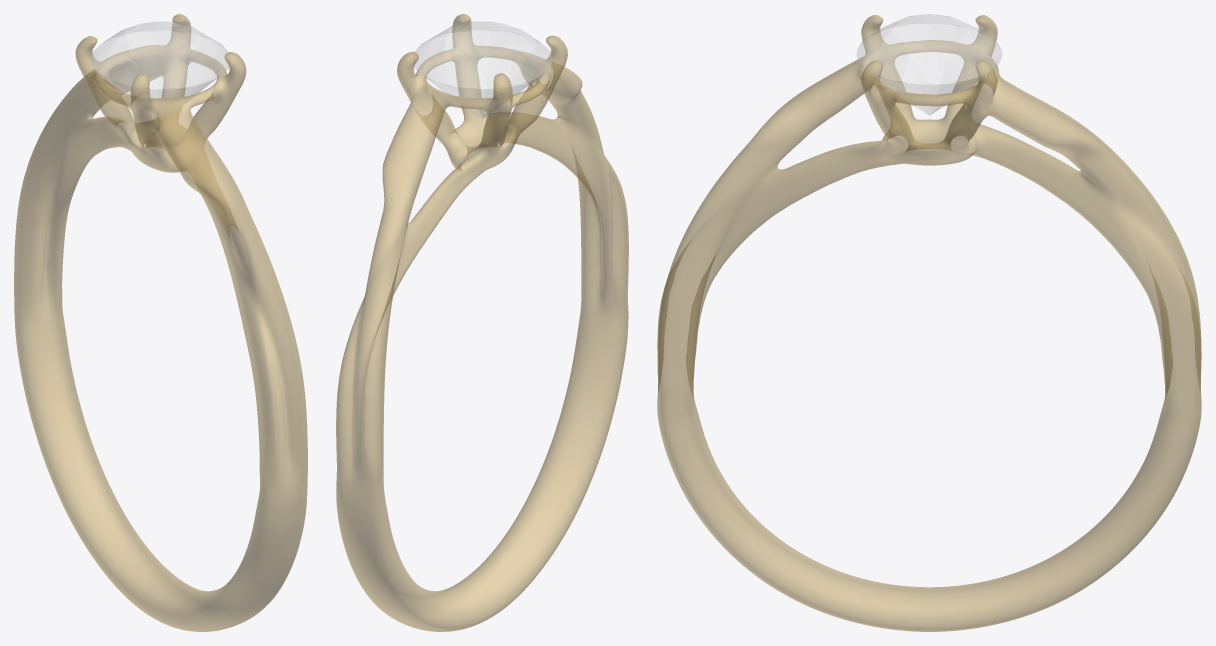
3 views of the same model, side by side, from view 1: azimuth 30°, elevation 25°; view 2: azimuth 150°, elevation 25°; view 3: azimuth 270°, elevation 25° (orthographic). The views are drawn at different scales.
Parts seen in each view (by area): view 1: Ring, Diamond; view 2: Ring, Diamond; view 3: Ring, Diamond.
Part boxes in pixels (x1,y1,x2,y2): Ring: (14, 14, 307, 631); Diamond: (91, 22, 230, 118); Ring: (336, 14, 628, 631); Diamond: (413, 21, 551, 118); Ring: (657, 15, 1201, 631); Diamond: (857, 14, 1001, 115).
Size of the model in its own units: 0.6111 by 2.77 by 2.29.
